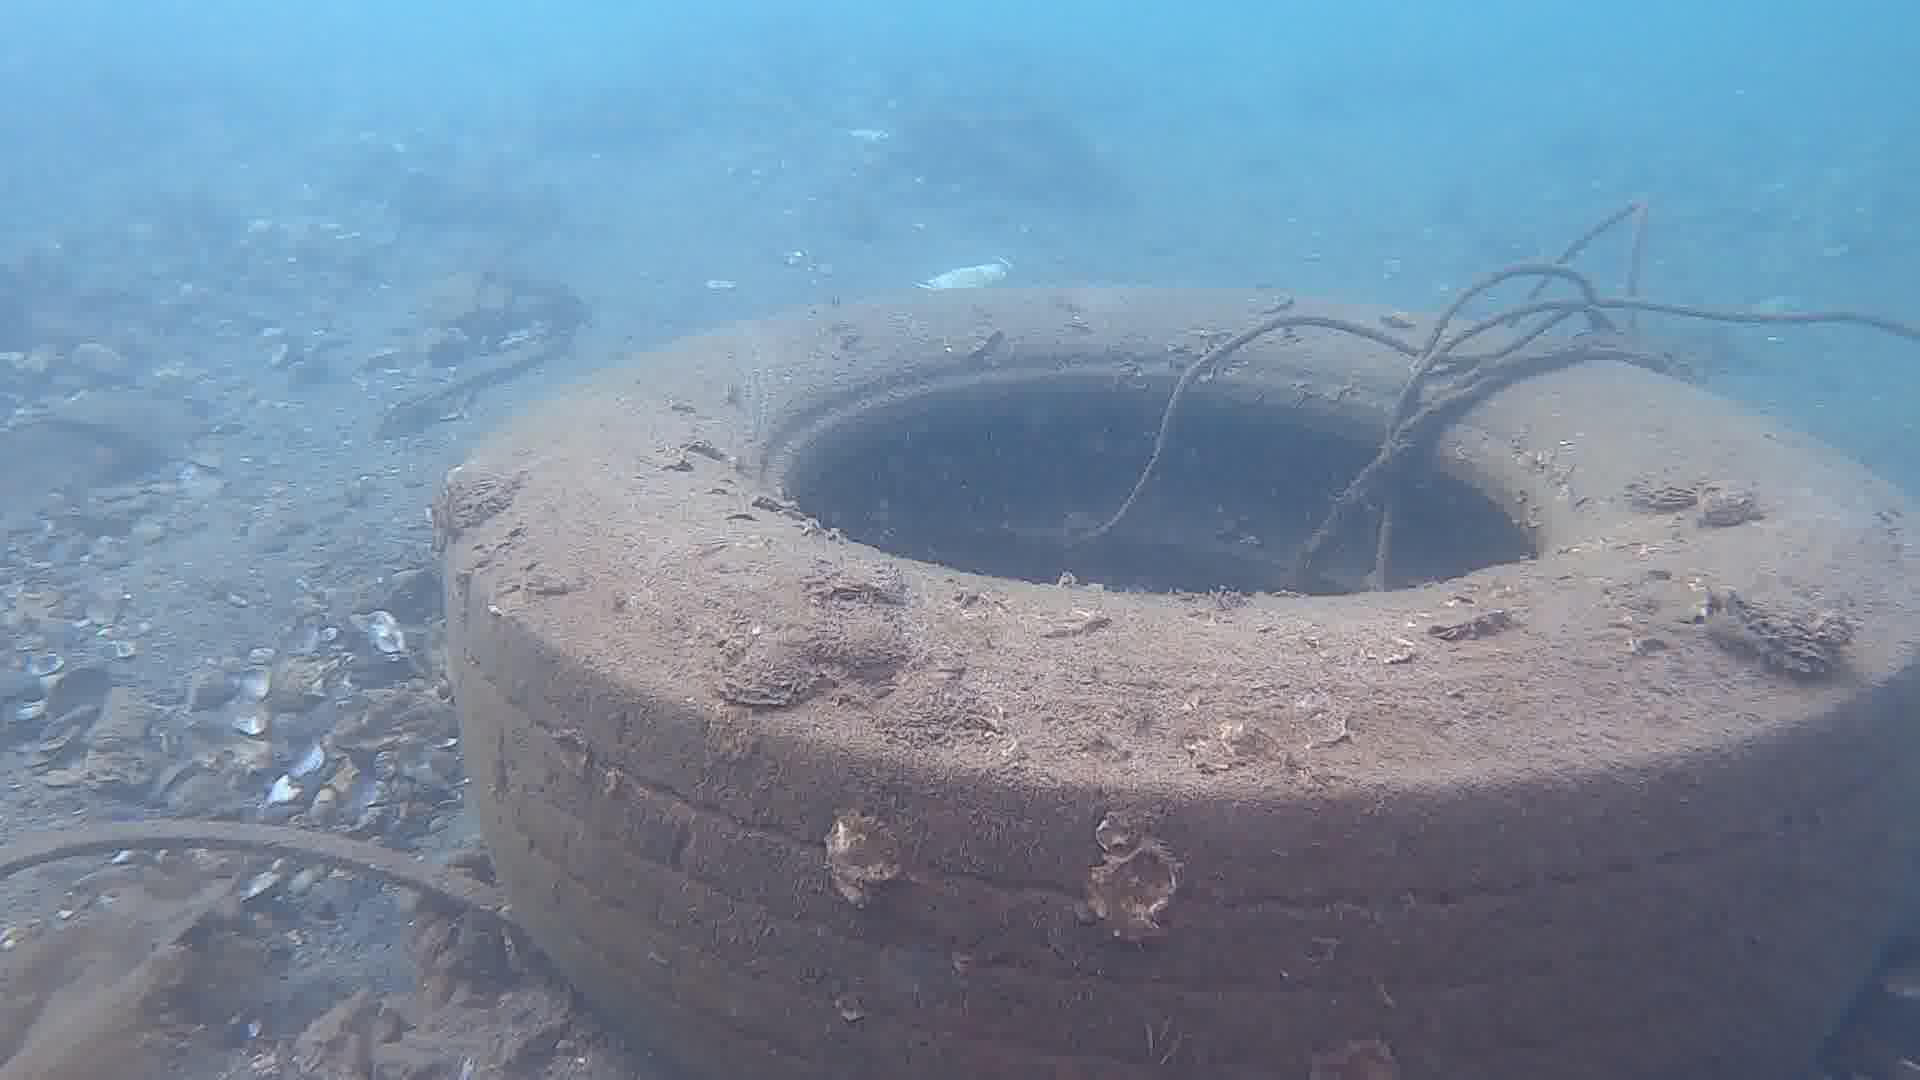bundle of ropes: (1097, 194, 1920, 578)
tire: (438, 284, 1920, 1080)
